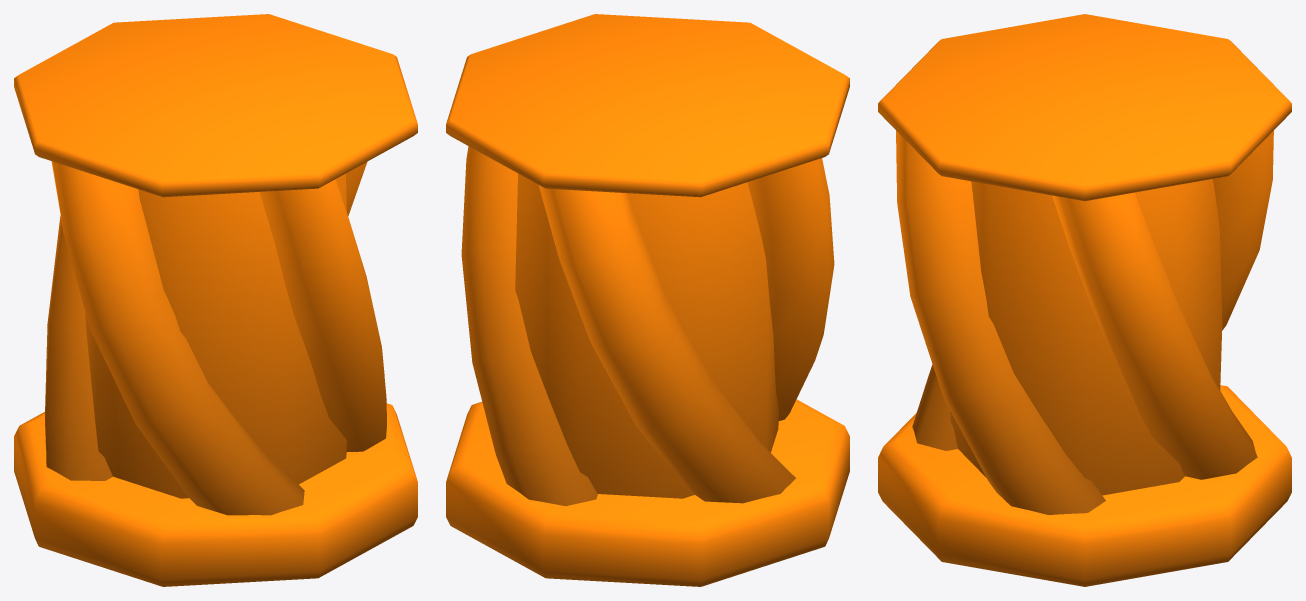
The model's file is bronze_grip_098.glb.
The picture shows the model from 3 angles, left to right: view 1: azimuth 30°, elevation 25°; view 2: azimuth 150°, elevation 25°; view 3: azimuth 270°, elevation 25°; orthographic projection.
Parts seen in each view (by area): view 1: bronze_grip_098; view 2: bronze_grip_098; view 3: bronze_grip_098.
Part boxes in pixels (left/top/right/bottom): bronze_grip_098: left=14, top=14, right=417, bottom=586; bronze_grip_098: left=446, top=14, right=849, bottom=586; bronze_grip_098: left=878, top=14, right=1291, bottom=586.
Size of the model in its own units: 2.89 by 3.13 by 2.89.
Materials: 1 (1 with a texture image).
